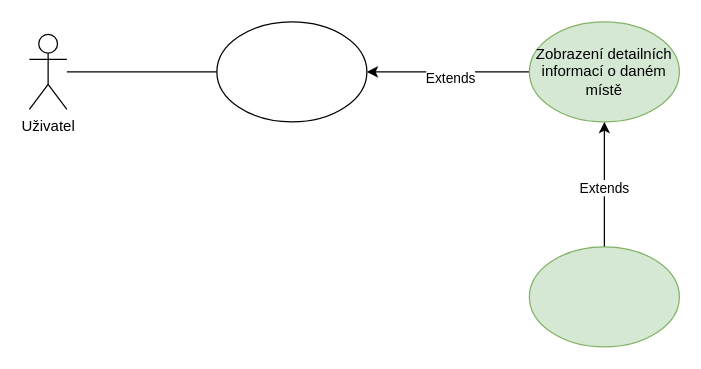
Image size: 701x369. Some labels were removed from this diagram. Each missing label, with the box of its shape:
Navigace ke zvolenému místu pomocí externí aplikace: (528, 246, 679, 347)
Vyhledání specifického místa: (216, 21, 367, 122)
